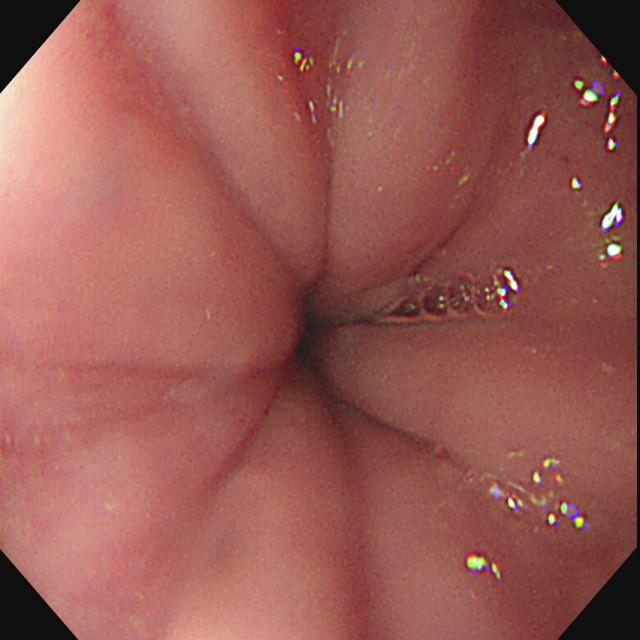I: (195, 192, 412, 460)
T: (396, 273, 497, 321)
U: (492, 451, 588, 532), (293, 49, 358, 80), (523, 109, 550, 155), (603, 94, 623, 156), (465, 552, 505, 582), (497, 268, 521, 316), (574, 79, 607, 109), (600, 201, 628, 232), (598, 241, 626, 268)
